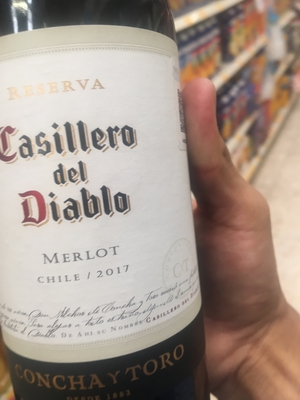casillero del diablo merlot: (1, 10, 211, 400)
